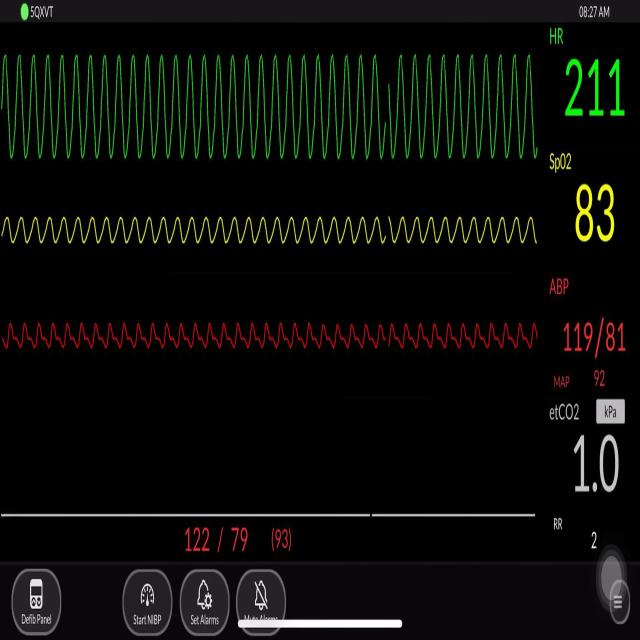danger: (7, 41, 383, 168), (395, 43, 542, 164)
